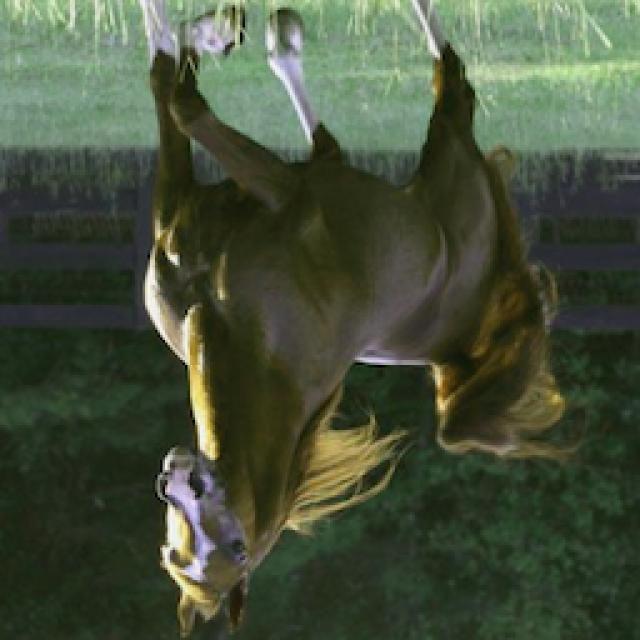Horse: (117, 2, 585, 640)
